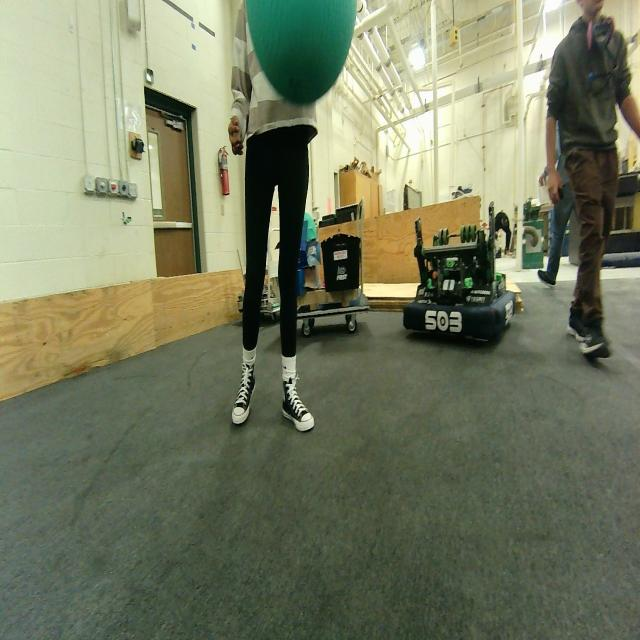algae: (236, 2, 366, 114)
